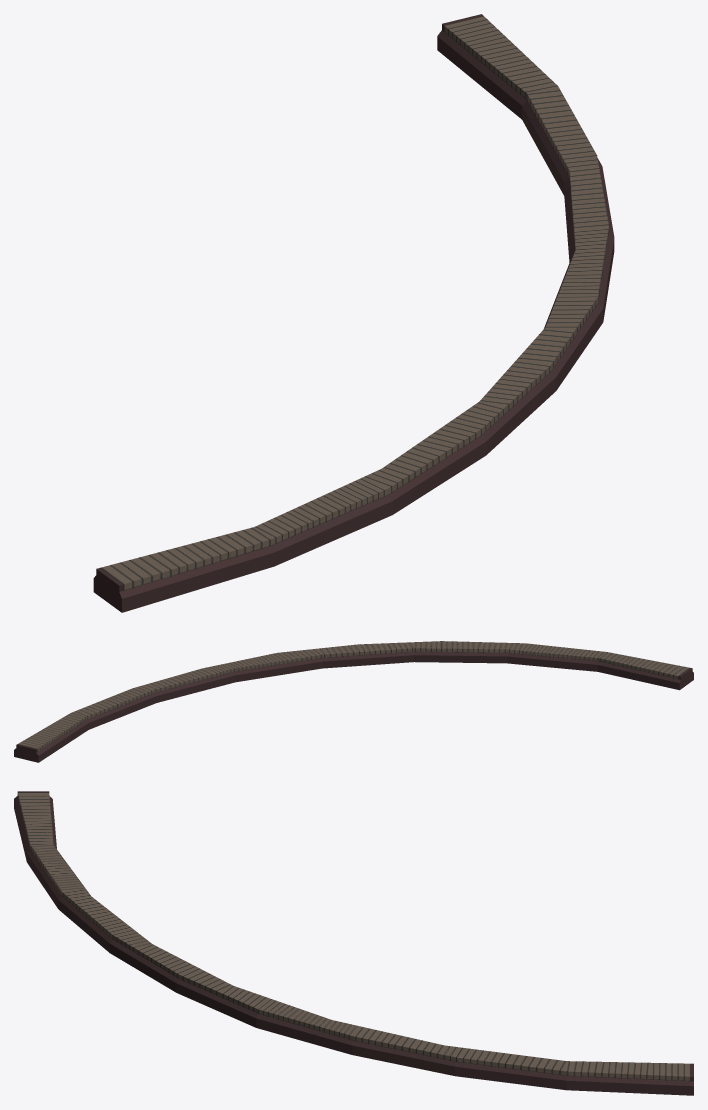
Rendered from SW_ENV_EL_TrackBase_Walkway_90dBend_Central.fbx.
The picture shows the model from 3 angles, top to bottom: view 1: azimuth 30°, elevation 25°; view 2: azimuth 150°, elevation 25°; view 3: azimuth 270°, elevation 25°; orthographic projection. The views are drawn at different scales.
Parts seen in each view (by area): view 1: SW_ENV_EL_TrackBase_Walkway_90dBend_Central; view 2: SW_ENV_EL_TrackBase_Walkway_90dBend_Central; view 3: SW_ENV_EL_TrackBase_Walkway_90dBend_Central.
Boxes of the visible parts, x1=… form: SW_ENV_EL_TrackBase_Walkway_90dBend_Central: x1=93, y1=14, x2=614, y2=612; SW_ENV_EL_TrackBase_Walkway_90dBend_Central: x1=14, y1=641, x2=693, y2=762; SW_ENV_EL_TrackBase_Walkway_90dBend_Central: x1=14, y1=791, x2=693, y2=1095.
Size of the model in its own units: 2805 by 78.72 by 2805.
